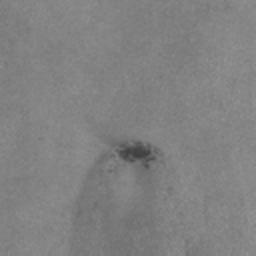Iron sheet ash: (118, 143, 156, 170)
